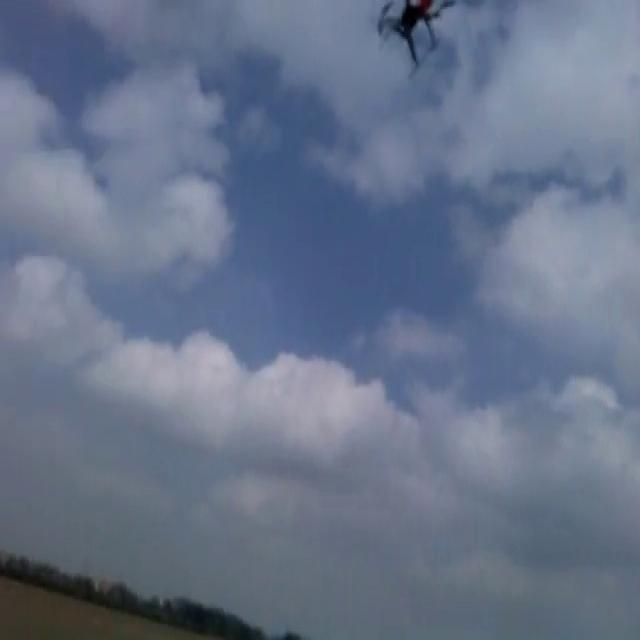drone: (376, 0, 457, 80)
